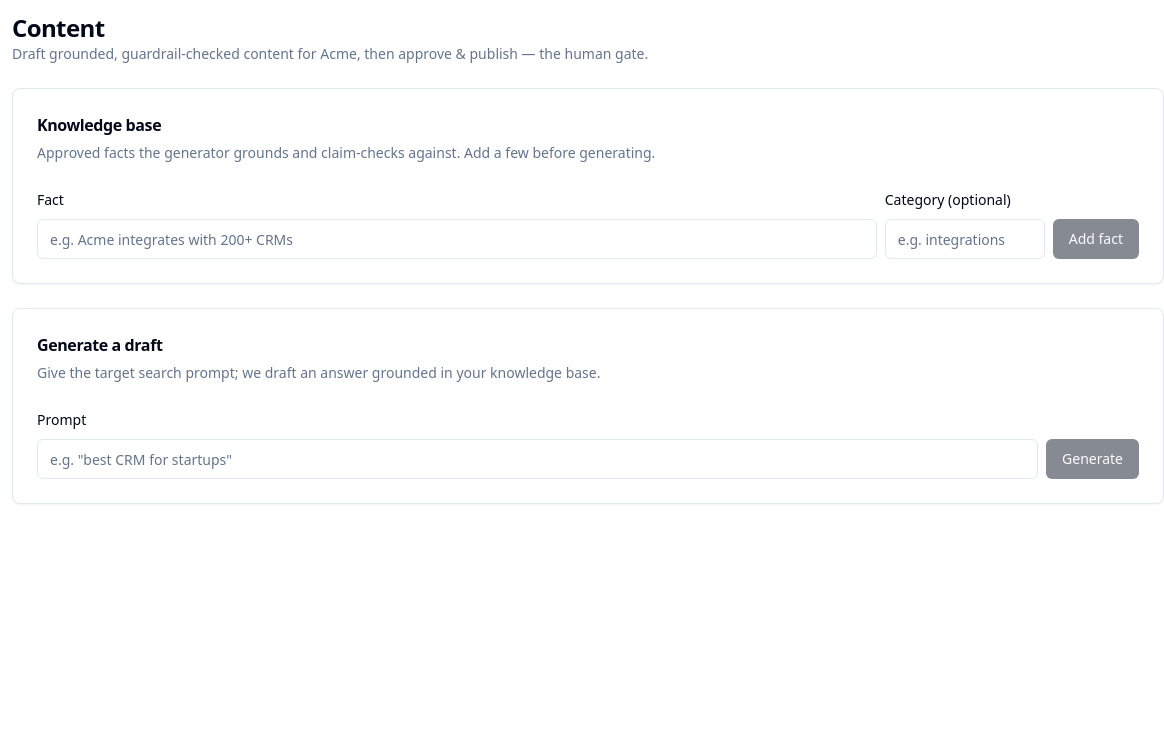
Test case: ContentPage › adds a knowledge-base fact and shows the added count
The width and height of the screenshot is (1164, 732).
Type "Acme integrates with 200+ CRMs" into the field labelled "Fact" at (457, 239), box 37,219 -> 877,259
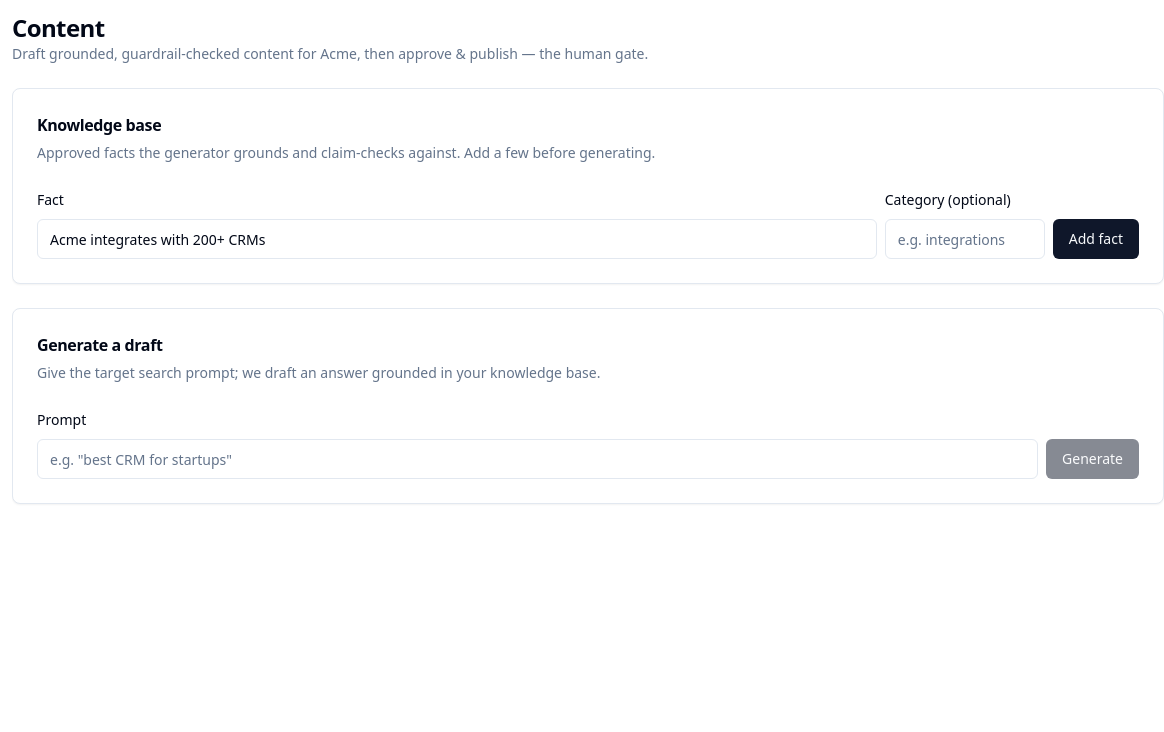
Click the button "Add fact" at (1096, 239), box 1053,219 -> 1139,259
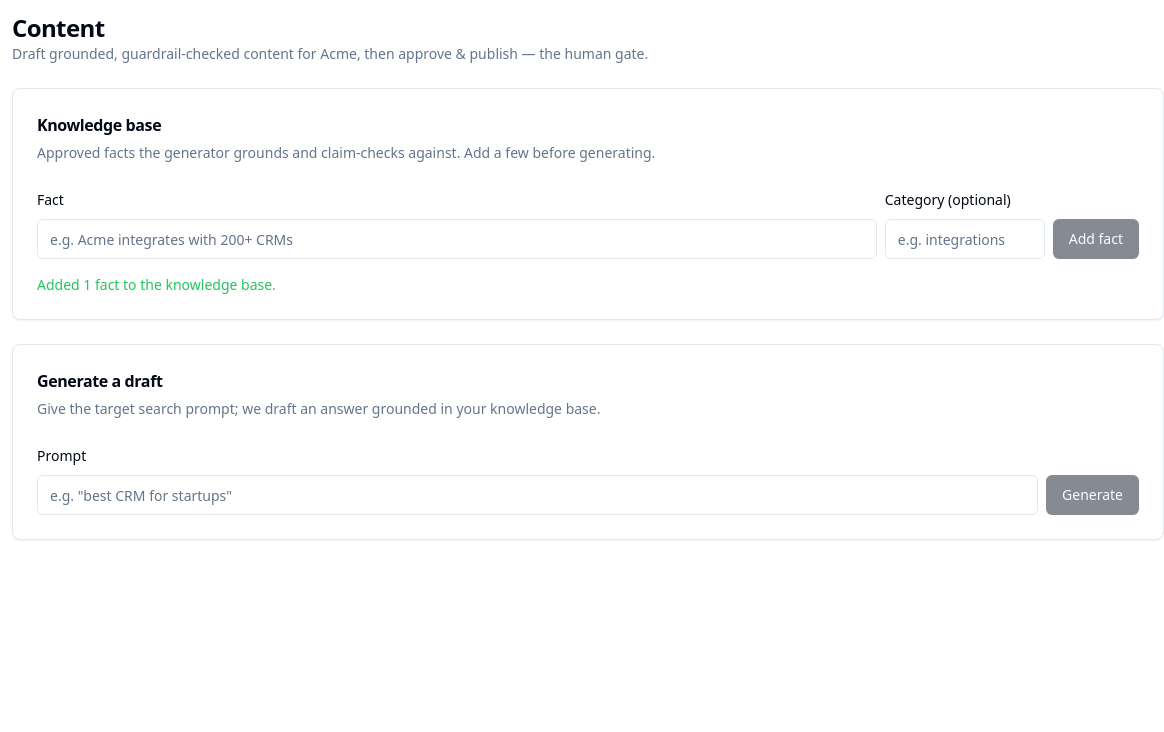
Expected: the text "Added 1 fact to the knowledge base." is shown, 37,275 -> 276,294
